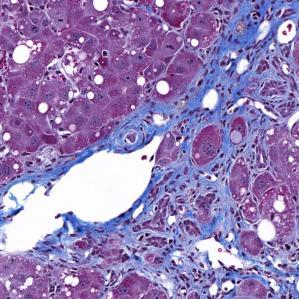fibrosis: (137, 97, 248, 252), (208, 7, 296, 136)
